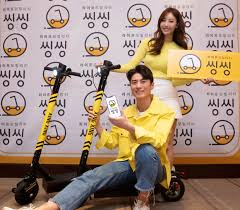kick_handler: (43, 64, 81, 80)
kick_neck: (34, 79, 61, 168)
kick_wheel: (14, 178, 39, 202)
